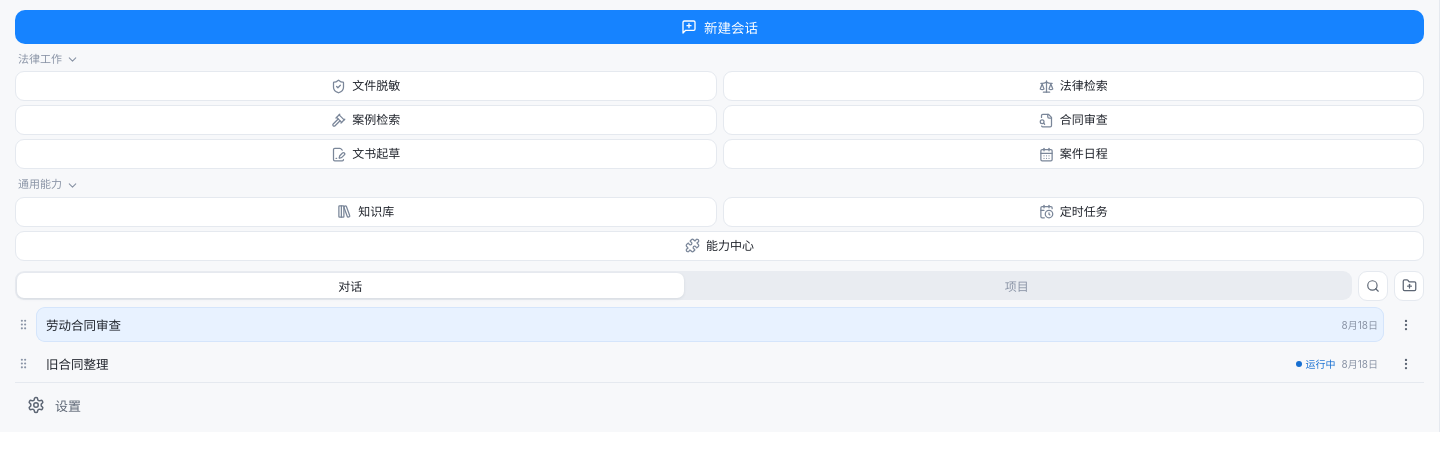
it: chat tab hides project sessions and the project tab lists them
Expected: the button "并购尽调项目" is not shown
What coordinates should you click on to do the following:
click the tab "项目"
I would click on:
 (1017, 286)
Its box is [684,273,1350,298].
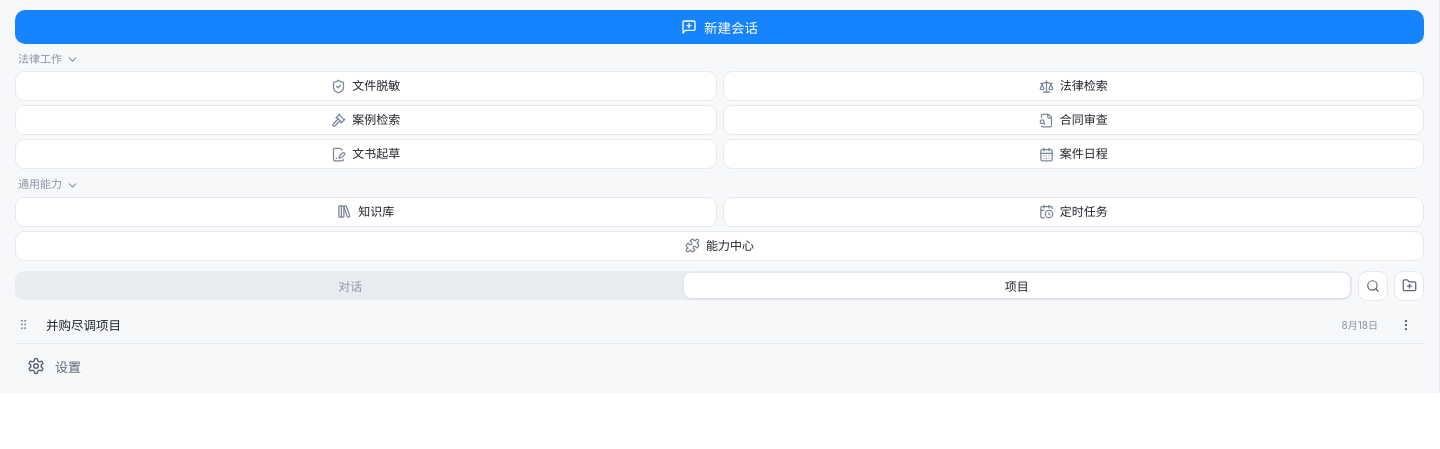
Expected: the button "并购尽调项目 8月18日" is shown, [36,307,1384,342]
Expected: the button "劳动合同审查" is gone
What coordinates should you click on to do the following:
click the tab "对话"
I would click on:
 (350, 286)
Its box is [17,273,684,298].
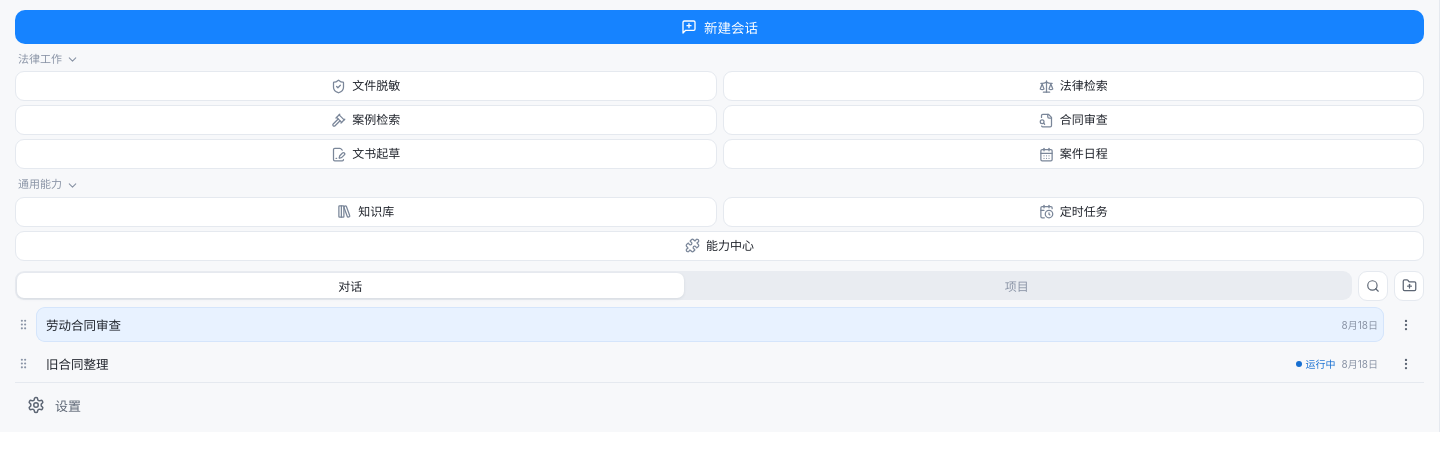
Expected: the button "劳动合同审查 8月18日" is shown, [36,307,1384,342]
